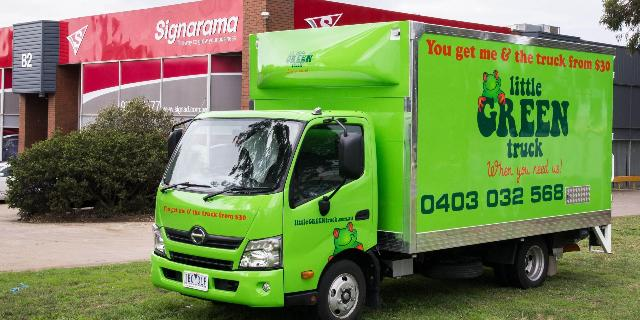truck: (149, 16, 628, 312)
